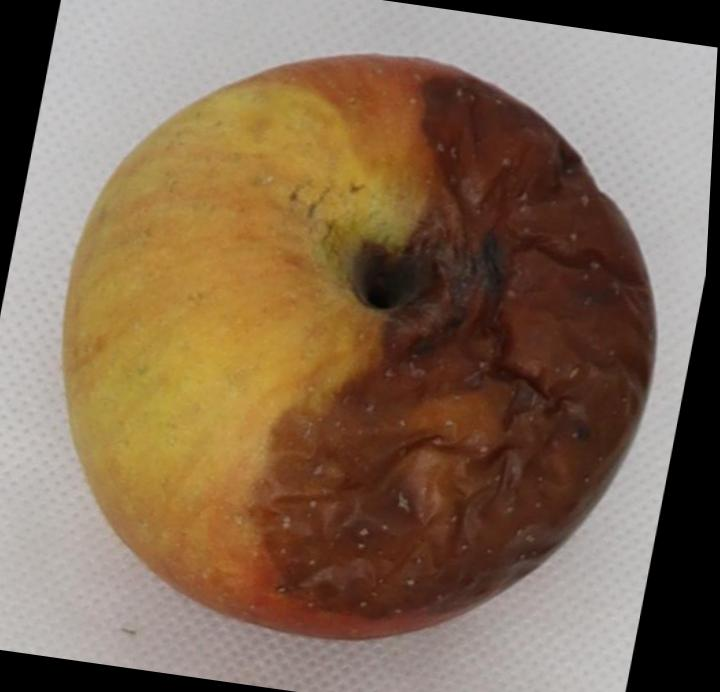apple: (63, 54, 655, 638)
rot_mold_decay: (255, 68, 654, 637)
